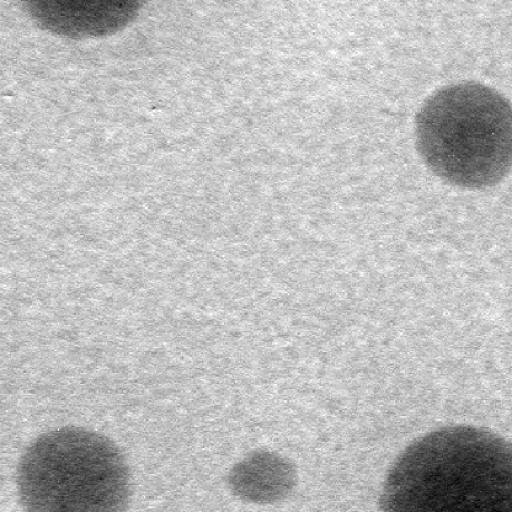Nanoparticles: (414, 78, 511, 202), (379, 421, 512, 511), (15, 421, 133, 510), (218, 442, 304, 506), (24, 2, 150, 39)
